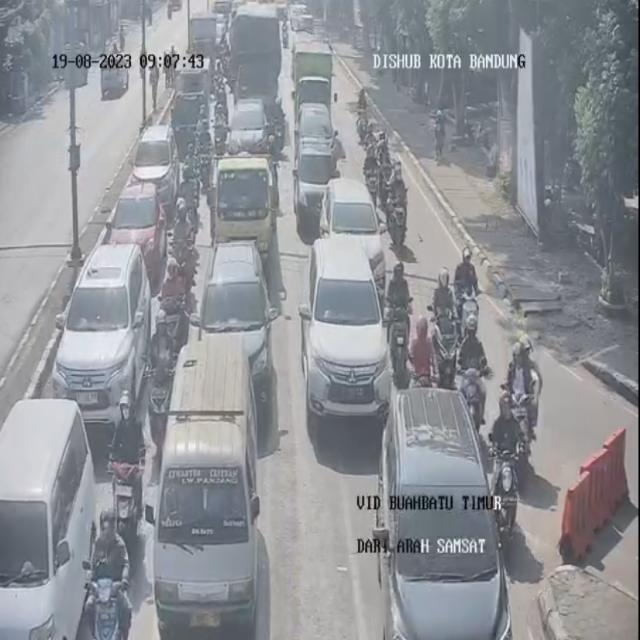cars: (376, 387, 514, 640), (153, 338, 268, 640), (0, 400, 98, 640), (52, 245, 152, 417), (304, 235, 394, 417), (198, 242, 277, 393), (323, 176, 388, 276), (211, 156, 273, 255), (290, 130, 339, 226), (116, 180, 168, 264), (296, 105, 340, 185), (137, 125, 179, 206), (186, 12, 221, 82), (175, 59, 210, 126), (233, 95, 268, 157)
motorcycle: (114, 384, 154, 532), (86, 501, 128, 638), (485, 390, 523, 499), (508, 336, 544, 444), (458, 317, 489, 437), (452, 242, 482, 361), (382, 258, 412, 375), (158, 252, 188, 358), (432, 270, 462, 374), (406, 310, 438, 390), (166, 196, 192, 270), (388, 168, 410, 255), (362, 144, 380, 199), (182, 159, 205, 200), (272, 99, 288, 154), (355, 96, 368, 147), (368, 123, 384, 161), (211, 102, 225, 137)
truck: (226, 4, 284, 114), (292, 39, 337, 115)
